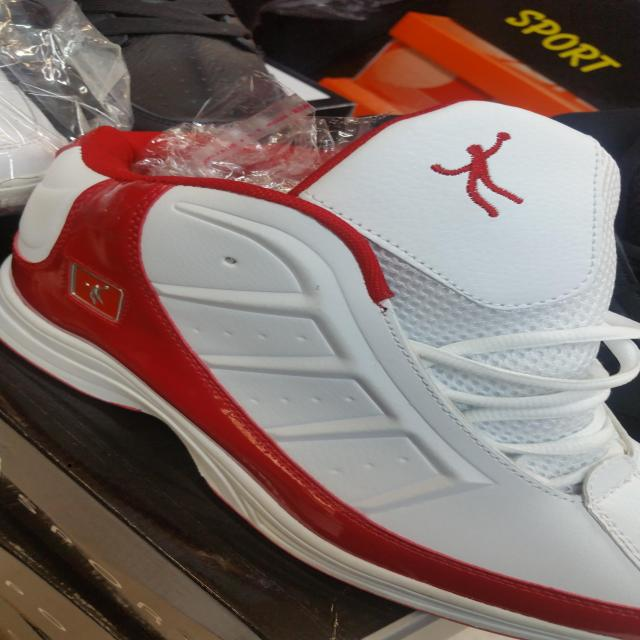shoe: (7, 103, 639, 640)
